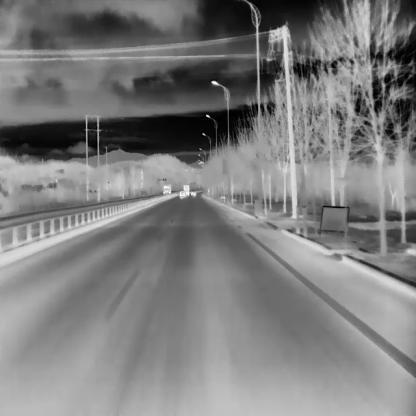car: (162, 183, 171, 195), (183, 184, 189, 196), (179, 189, 185, 198), (191, 190, 196, 196)
